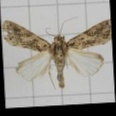Spodoptera litura: (2, 16, 112, 89)
